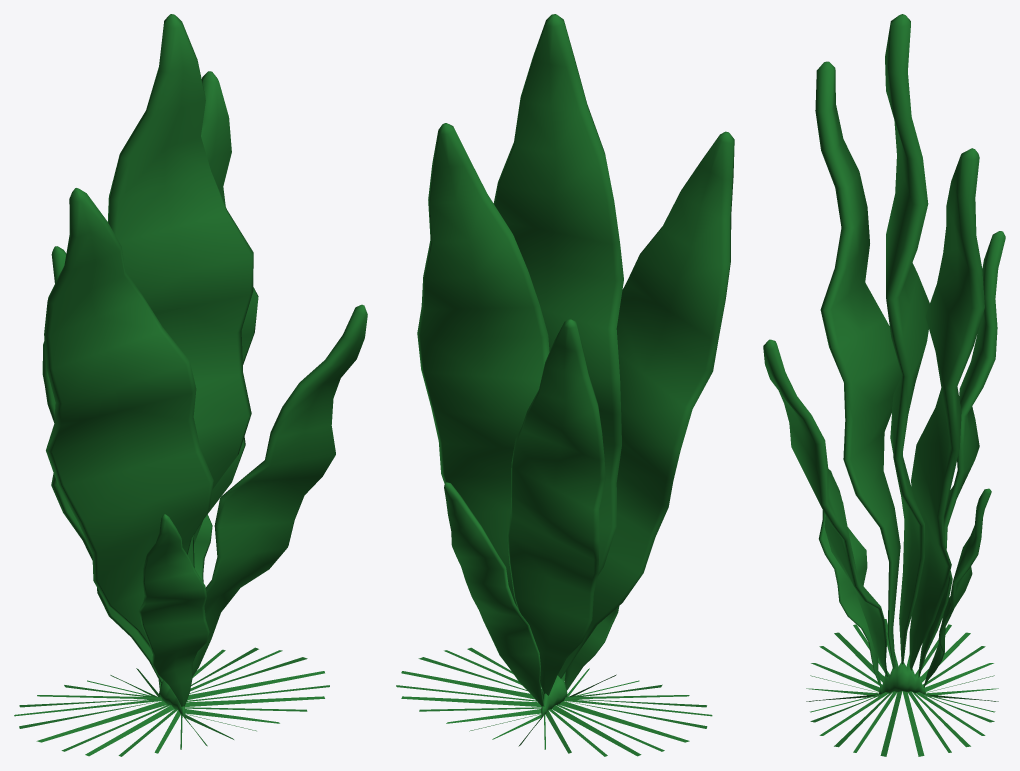
Rendered from Java-Fern.fbx.
3 renders of one model, left to right at view 1: azimuth 30°, elevation 25°; view 2: azimuth 150°, elevation 25°; view 3: azimuth 270°, elevation 25°, orthographic.
Visible parts, largest first — view 1: Leaf; view 2: Leaf; view 3: Leaf.
Boxes of the visible parts, x1=… form: Leaf: x1=14, y1=14, x2=367, y2=756; Leaf: x1=396, y1=14, x2=734, y2=756; Leaf: x1=763, y1=14, x2=1005, y2=756.
Bounding box in the file's own units: 8.52 × 19.21 × 6.2.
